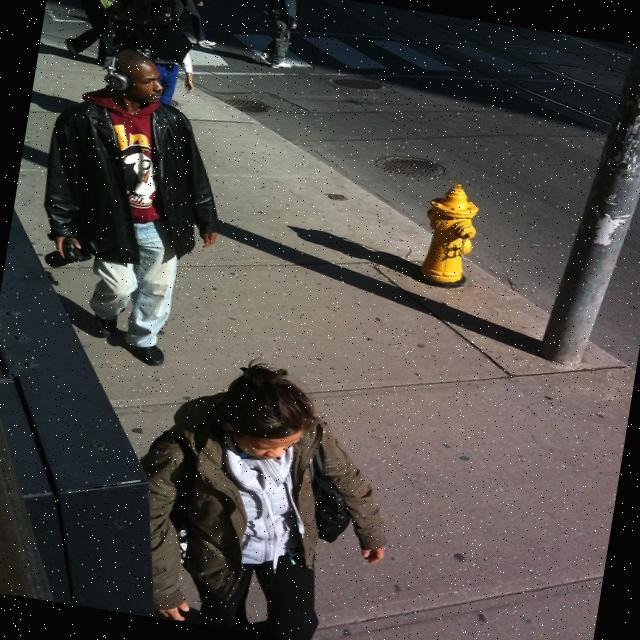fire_hydrant: (414, 178, 481, 288)
